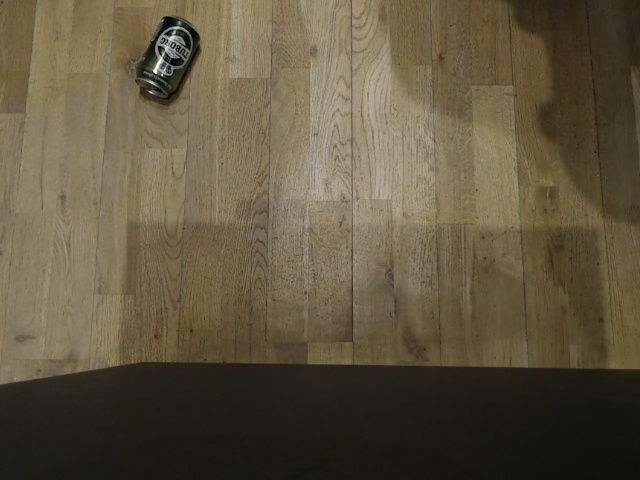beer: (132, 13, 202, 100)
